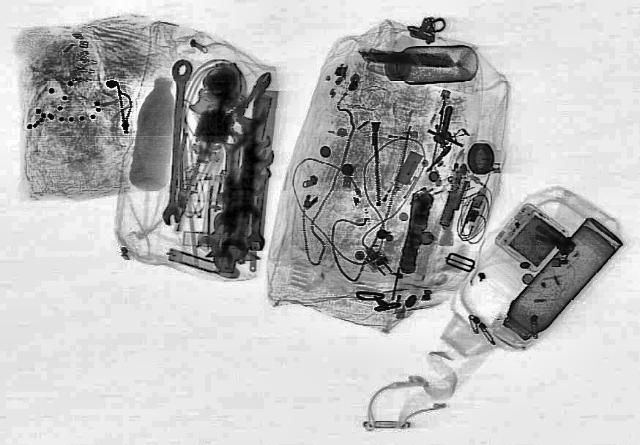Pliers: (232, 70, 274, 120)
Wrench: (160, 60, 192, 224), (188, 198, 255, 258), (242, 168, 272, 248), (218, 208, 258, 262)
